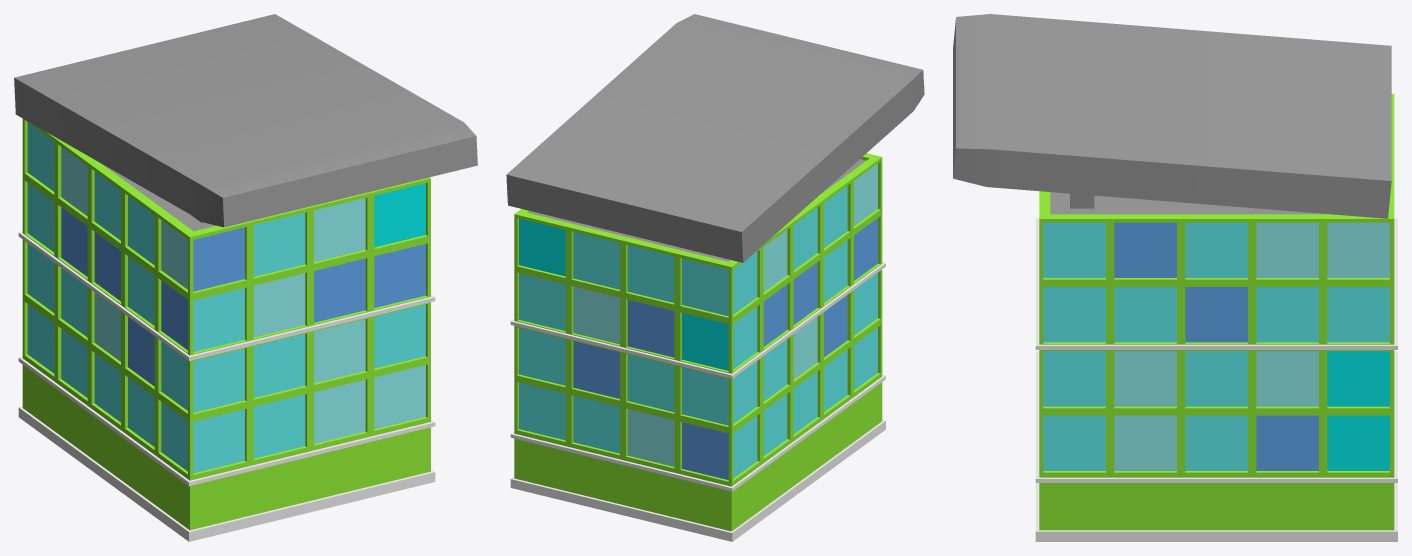
File: SM_House_23_02.FBX
3 views of the same model, side by side, from view 1: azimuth 30°, elevation 25°; view 2: azimuth 150°, elevation 25°; view 3: azimuth 270°, elevation 25° (orthographic). The views are drawn at different scales.
Parts seen in each view (by area): view 1: SM_House_23_02; view 2: SM_House_23_02; view 3: SM_House_23_02.
Boxes of the visible parts, x1,y1,x2,y2 form: SM_House_23_02: [14, 14, 477, 541]; SM_House_23_02: [506, 14, 924, 541]; SM_House_23_02: [953, 14, 1397, 541].
Bounding box in the file's own units: 5.41 × 7.4 × 7.52.
1 material, 1 textured.
